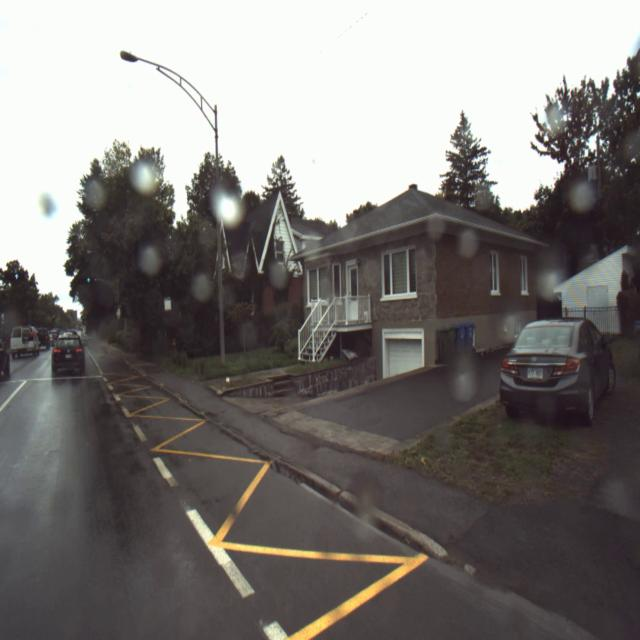car: (499, 317, 617, 428), (50, 331, 86, 378), (8, 326, 39, 361)
trafficLight-Green: (85, 275, 92, 284), (13, 272, 20, 280)
